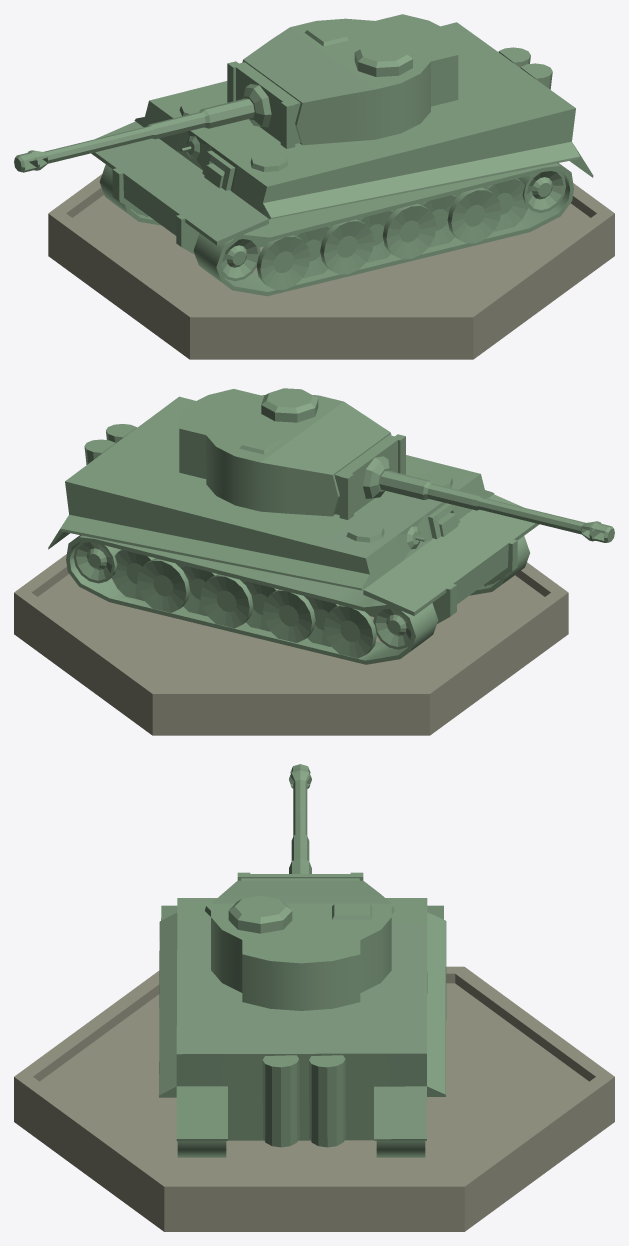
File: tiger.fbx
3 views of the same model, one above another, from view 1: azimuth 30°, elevation 25°; view 2: azimuth 150°, elevation 25°; view 3: azimuth 270°, elevation 25° (orthographic). The views are drawn at different scales.
Parts seen in each view (by area): view 1: pCylinder26, pCube1, polySurface2, polySurface13, polySurface3, polySurface23; view 2: pCylinder26, pCube1, polySurface2, polySurface23, polySurface3, polySurface13; view 3: pCylinder26, pCube1, polySurface2, polySurface3, polySurface23, polySurface13.
Boxes of the visible parts, bbox=[...] form: pCylinder26: bbox=[48, 174, 614, 359]; pCube1: bbox=[91, 22, 593, 254]; polySurface2: bbox=[14, 14, 458, 172]; polySurface13: bbox=[193, 163, 573, 296]; polySurface3: bbox=[498, 47, 552, 89]; polySurface23: bbox=[99, 164, 161, 225]; pCylinder26: bbox=[14, 554, 568, 735]; pCube1: bbox=[48, 396, 539, 623]; polySurface2: bbox=[179, 388, 614, 542]; polySurface23: bbox=[66, 535, 438, 664]; polySurface3: bbox=[84, 424, 136, 464]; polySurface13: bbox=[470, 536, 529, 595]; pCylinder26: bbox=[14, 966, 614, 1231]; pCube1: bbox=[159, 898, 446, 1141]; polySurface2: bbox=[211, 764, 391, 1010]; polySurface3: bbox=[262, 1055, 345, 1147]; polySurface23: bbox=[376, 1140, 425, 1157]; polySurface13: bbox=[177, 1141, 226, 1157].
Size of the model in its own units: 20.74 by 8.04 by 19.1.
